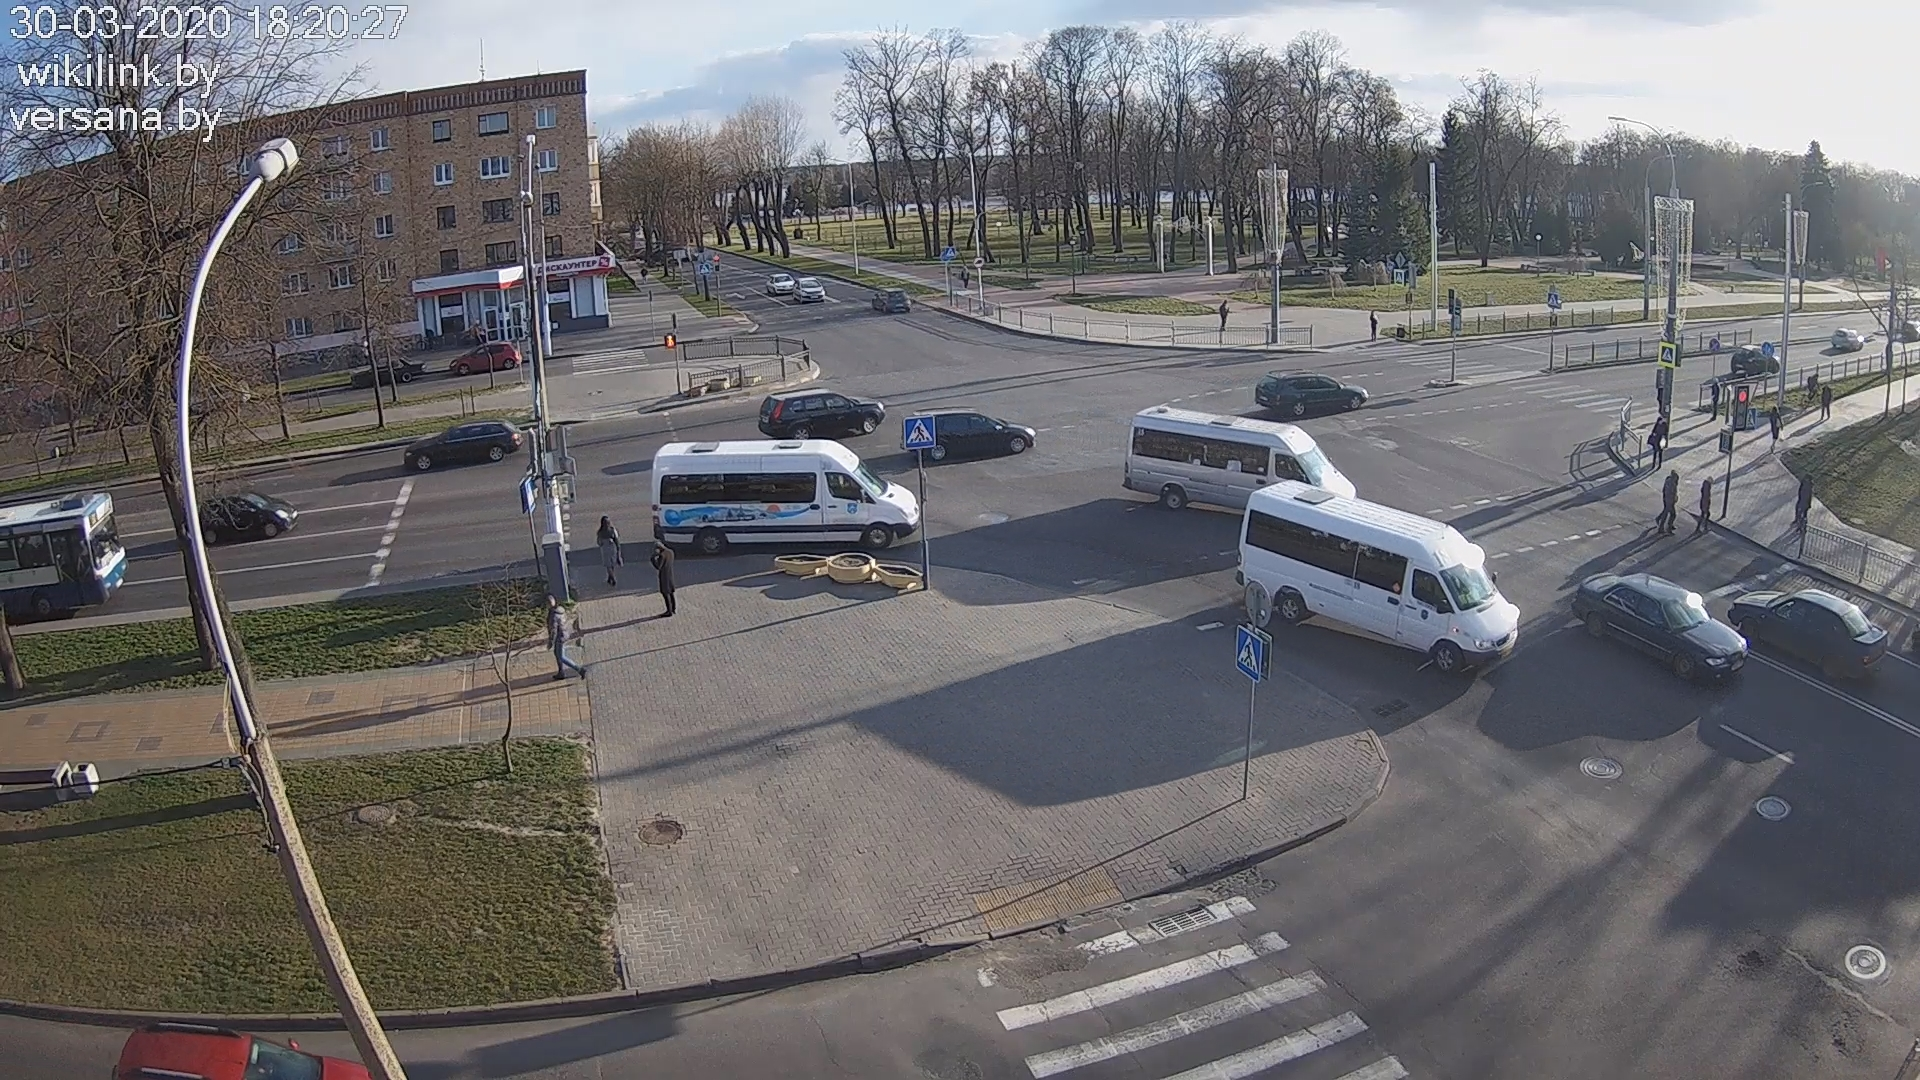car: (1236, 480, 1519, 673), (651, 438, 920, 556), (1122, 405, 1360, 510), (1571, 571, 1747, 682), (1727, 589, 1888, 680), (758, 386, 885, 440), (914, 406, 1035, 460), (405, 418, 525, 471), (200, 491, 298, 546), (1254, 368, 1367, 414), (448, 342, 522, 376), (351, 356, 426, 386), (872, 287, 911, 314), (793, 276, 825, 303), (766, 273, 795, 295)
